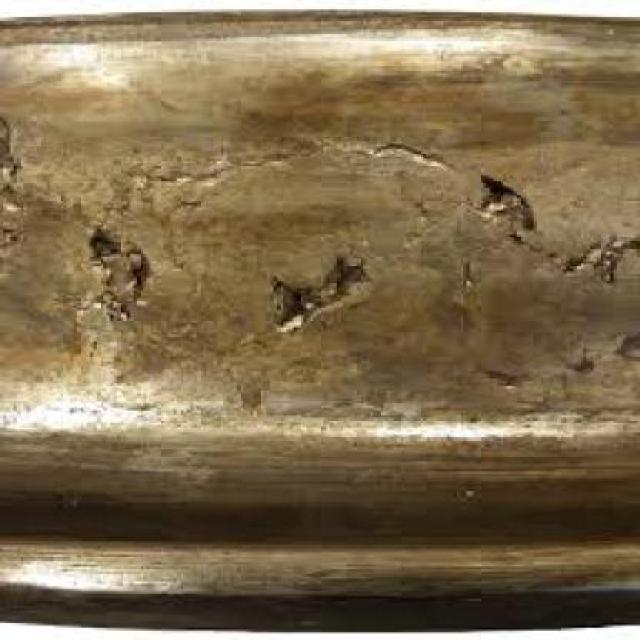defective: (3, 73, 640, 510)
